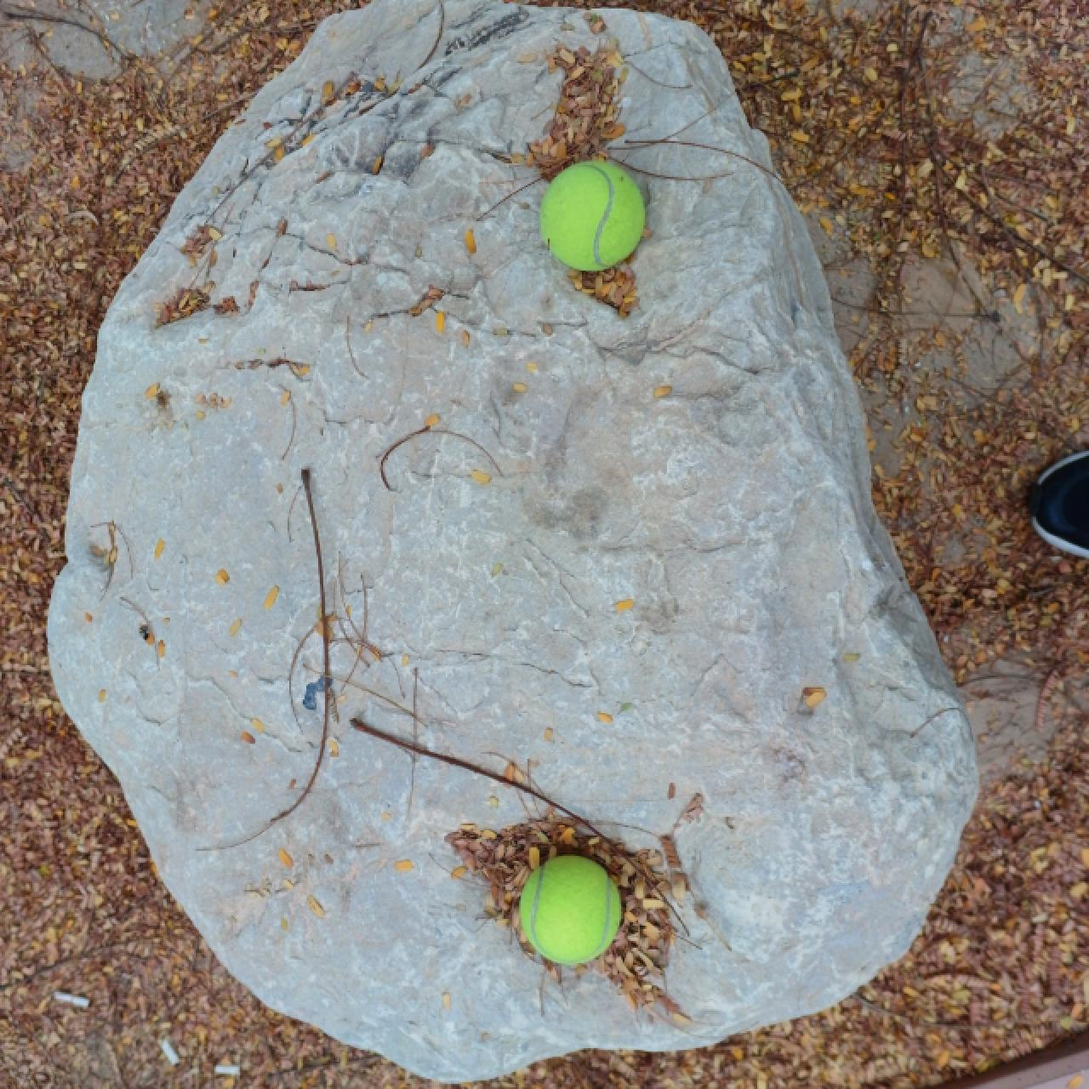tennis-ball: (537, 158, 648, 274), (518, 851, 623, 967)
